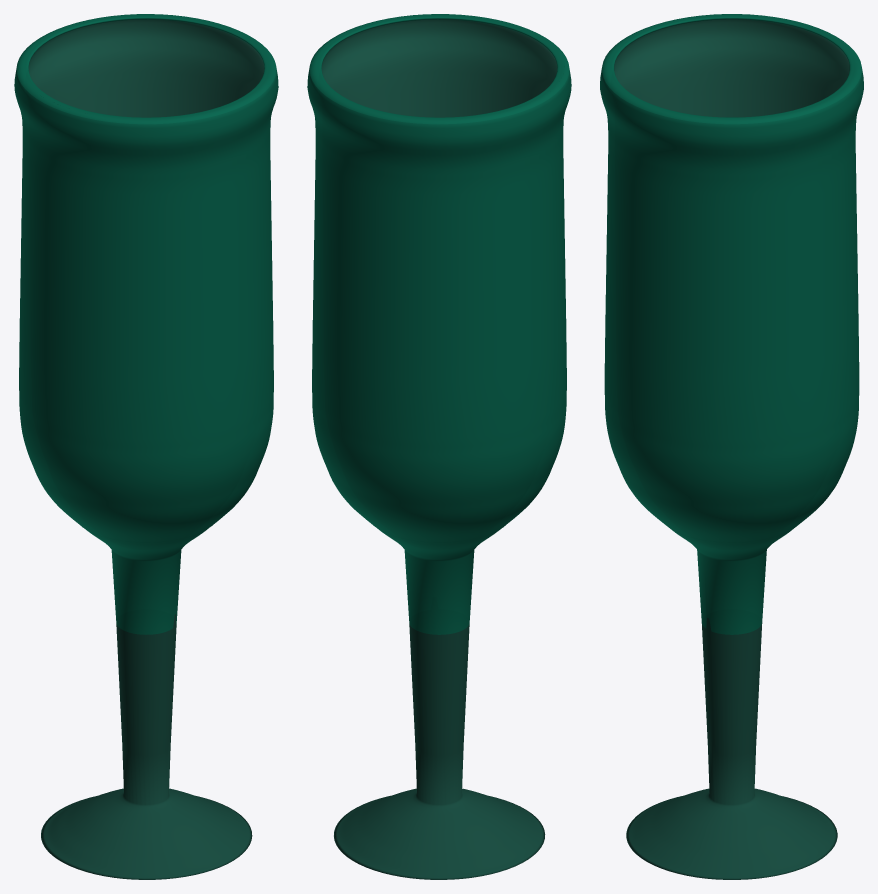
File: Glass3.FBX
3 renders of one model, left to right at view 1: azimuth 30°, elevation 25°; view 2: azimuth 150°, elevation 25°; view 3: azimuth 270°, elevation 25°, orthographic.
Visible parts, largest first — view 1: Cylinder003; view 2: Cylinder003; view 3: Cylinder003.
Part boxes in pixels (x1,y1,x2,y2): Cylinder003: (14,14,278,879); Cylinder003: (307,14,571,879); Cylinder003: (600,14,863,879).
Bounding box in the file's own units: 40.04 × 129 × 40.04.
